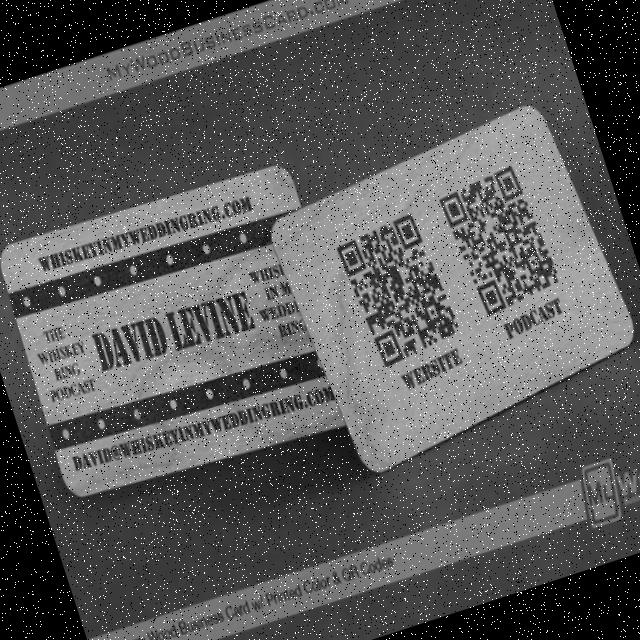QR-codes: (332, 206, 466, 370), (436, 162, 564, 318)
